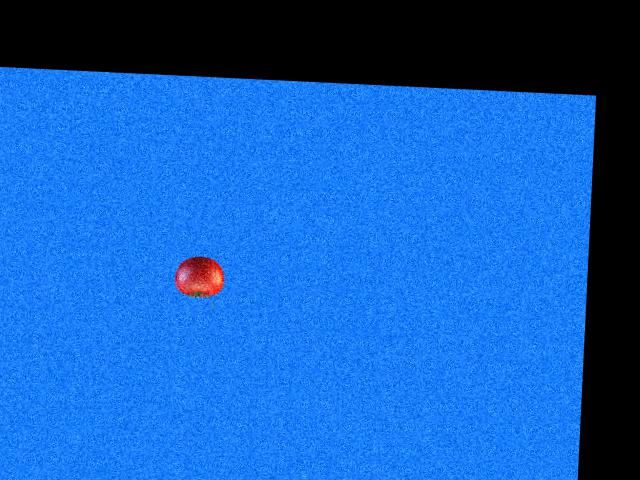tomato: (173, 255, 224, 297)
